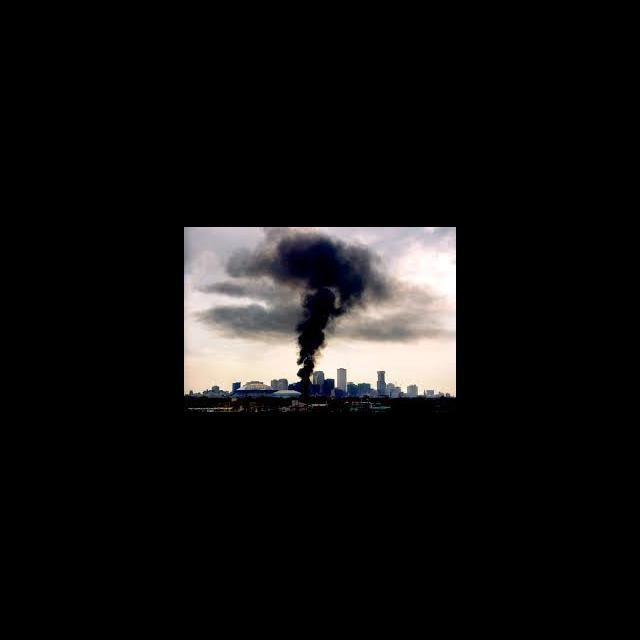Smoke: (203, 233, 443, 385)
